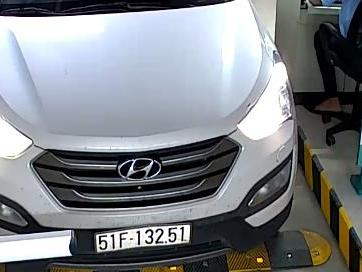number: (95, 226, 192, 252)
